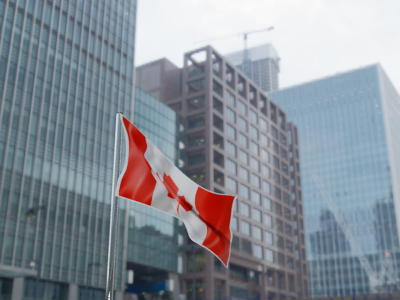Canada flag: (120, 115, 236, 269)
